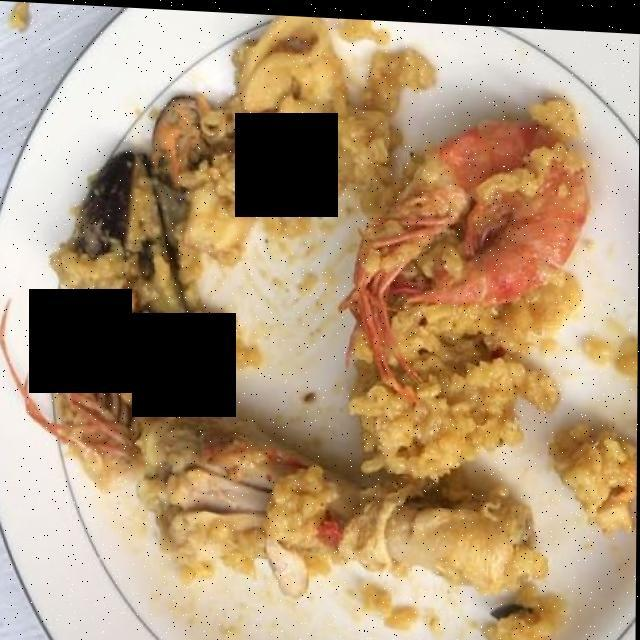risotto: (48, 35, 626, 563)
